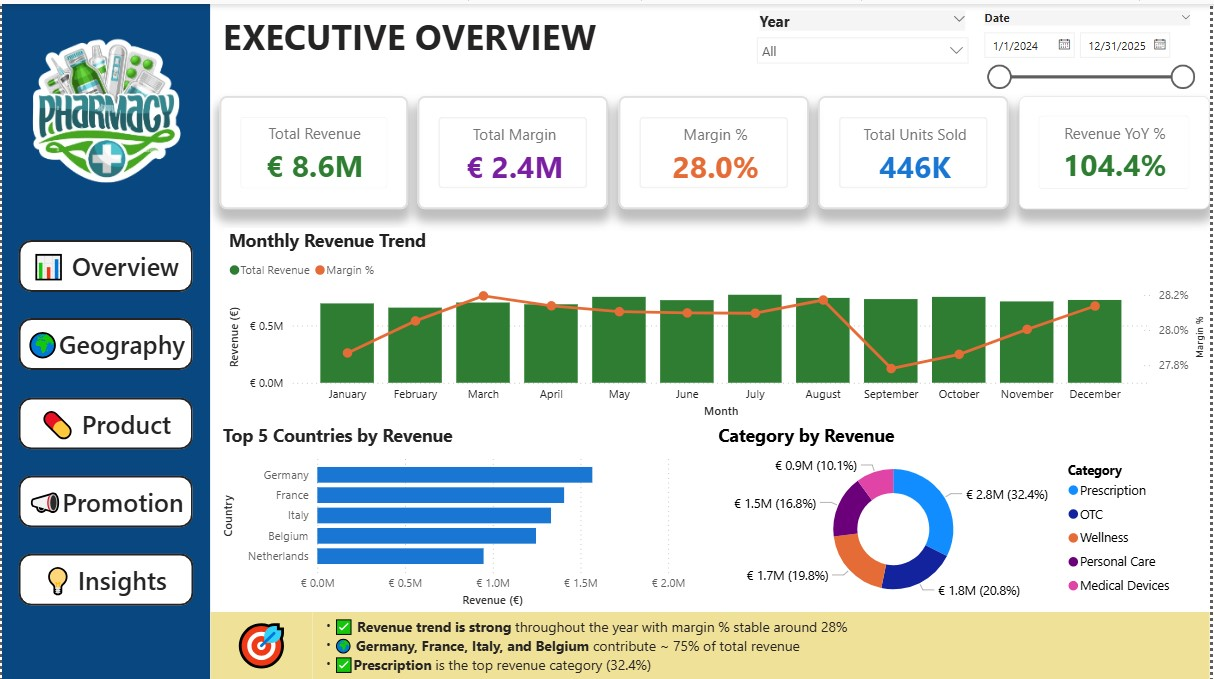

The page's visual inventory and layout, read from the dashboard file:
{"tool":"powerbi","page":{"name":"Overview","canvas":[1280,720],"ordinal":0},"visuals":[{"type":"textbox","box":[10,199,220,150],"z":0},{"type":"textbox","box":[0,0,220.7,719.6],"z":1000},{"type":"image","box":[0,0,220.7,238.8],"z":2000},{"type":"textbox","box":[229.6,4.2,525.9,75.1],"z":3000},{"type":"slicer","fields":{"Values":["Calendar.Year"]},"box":[788,0,250,100],"z":4000},{"type":"cardVisual","fields":{"Data":["_Measures.Total Revenue"]},"box":[230,98,200,120],"z":5000},{"type":"lineStackedColumnComboChart","title":"Monthly Revenue Trend","fields":{"Category":["Sheet1.YearMonth.Variation.Date Hierarchy.Month"],"Y":["_Measures.Total Revenue"],"Y2":["_Measures.Margin %"]},"box":[235.4,238.6,1045,206.8],"z":6000},{"type":"clusteredBarChart","title":"Top 5 Countries by Revenue","fields":{"Category":["Sheet1.Country"],"Y":["_Measures.Total Revenue"]},"box":[229.1,445.4,501,200.4],"z":7000},{"type":"donutChart","title":"Category by Revenue","fields":{"Y":["_Measures.Total Revenue"],"Category":["Sheet1.Category"]},"box":[754,445.4,499.4,200.4],"z":8000},{"type":"slicer","fields":{"Values":["Calendar.Date"]},"box":[1026,0,250,100],"z":9000},{"type":"cardVisual","fields":{"Data":["_Measures.Total Margin"]},"box":[440.5,98,202,120],"z":10000},{"type":"cardVisual","fields":{"Data":["_Measures.Margin %"]},"box":[653,98,202,120],"z":11000},{"type":"cardVisual","fields":{"Data":["_Measures.Total Units Sold"]},"box":[865.5,98,202,120],"z":12000},{"type":"cardVisual","fields":{"Data":["_Measures.Revenue YoY %"]},"box":[1078,98,202,120],"z":13000},{"type":"actionButton","title":"Overview","box":[17.3,251.2,185,55],"z":14000},{"type":"actionButton","title":"Overview","box":[17.3,334.5,185,55],"z":15000},{"type":"actionButton","title":"Overview","box":[17.3,417.8,185,55],"z":16000},{"type":"actionButton","title":"Overview","box":[17.3,501.1,185,55],"z":17000},{"type":"actionButton","title":"Overview","box":[17,584.4,185.6,55.4],"z":18000},{"type":"textbox","box":[329.3,645.8,951.2,74.8],"z":19000},{"type":"textbox","box":[221.1,645.8,108.2,74.8],"z":20000}]}

Visuals, with their boxes in screenshot pixels (x1, y1, x2, y2), scaled from the page's 1280x720 canvas onto the 1214x679 screenshot:
textbox: BBox(9, 188, 218, 329)
textbox: BBox(0, 0, 209, 678)
image: BBox(0, 0, 209, 225)
textbox: BBox(218, 4, 717, 75)
slicer - Calendar.Year: BBox(747, 0, 984, 94)
cardVisual - _Measures.Total Revenue: BBox(218, 92, 408, 206)
"Monthly Revenue Trend" lineStackedColumnComboChart: BBox(223, 225, 1213, 420)
"Top 5 Countries by Revenue" clusteredBarChart: BBox(217, 420, 692, 609)
"Category by Revenue" donutChart: BBox(715, 420, 1189, 609)
slicer - Calendar.Date: BBox(973, 0, 1210, 94)
cardVisual - _Measures.Total Margin: BBox(418, 92, 609, 206)
cardVisual - _Measures.Margin %: BBox(619, 92, 811, 206)
cardVisual - _Measures.Total Units Sold: BBox(821, 92, 1012, 206)
cardVisual - _Measures.Revenue YoY %: BBox(1022, 92, 1213, 206)
"Overview" actionButton: BBox(16, 237, 192, 289)
"Overview" actionButton: BBox(16, 315, 192, 367)
"Overview" actionButton: BBox(16, 394, 192, 446)
"Overview" actionButton: BBox(16, 473, 192, 524)
"Overview" actionButton: BBox(16, 551, 192, 603)
textbox: BBox(312, 609, 1213, 678)
textbox: BBox(210, 609, 312, 678)
